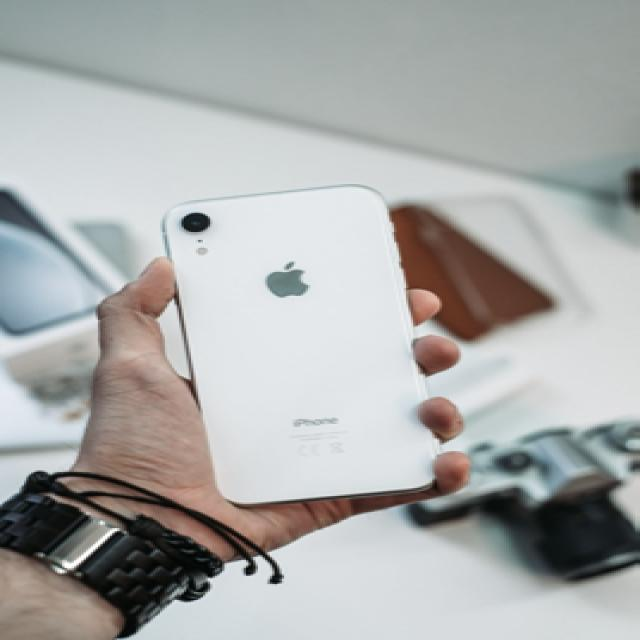cellphone: (160, 182, 439, 508)
